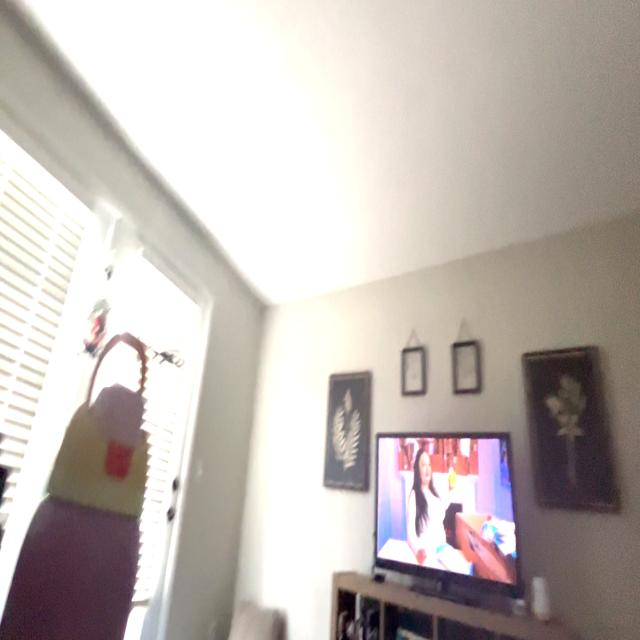drone: (146, 326, 186, 383)
